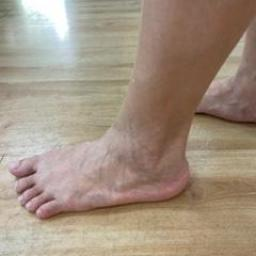Lateral View -Left Foot-: (2, 97, 208, 227)
